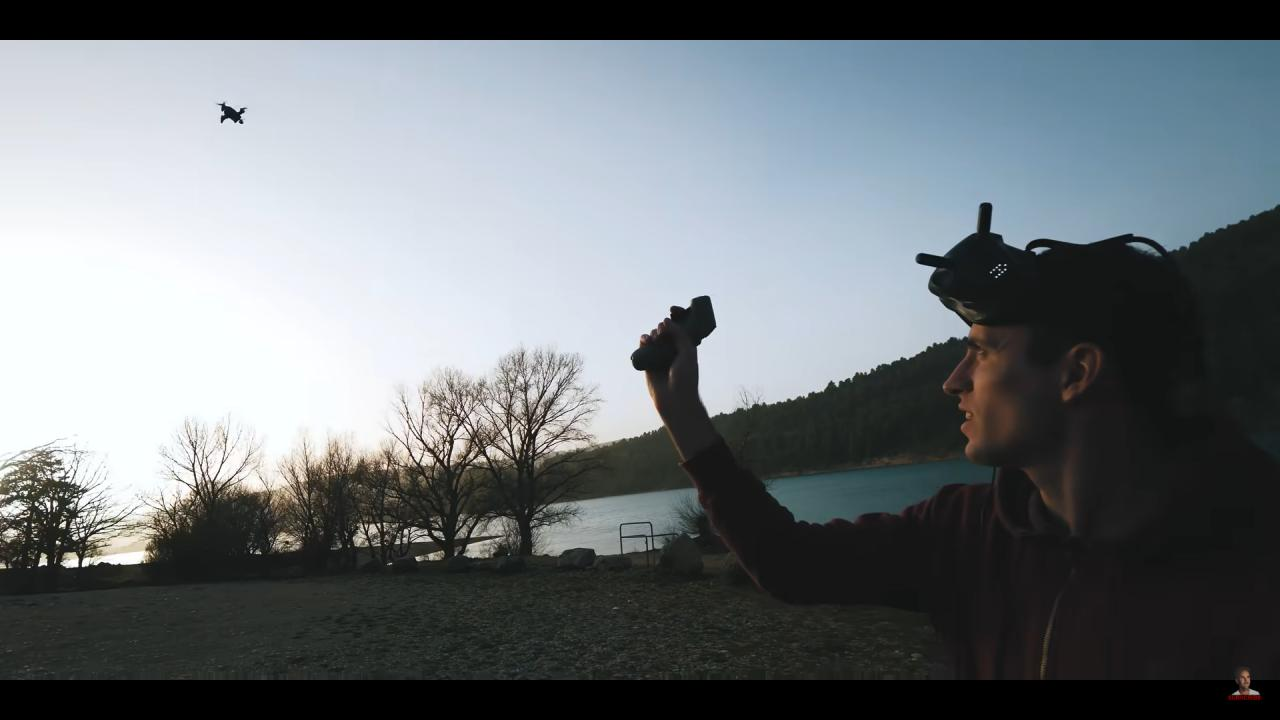Drone: (205, 92, 259, 138)
